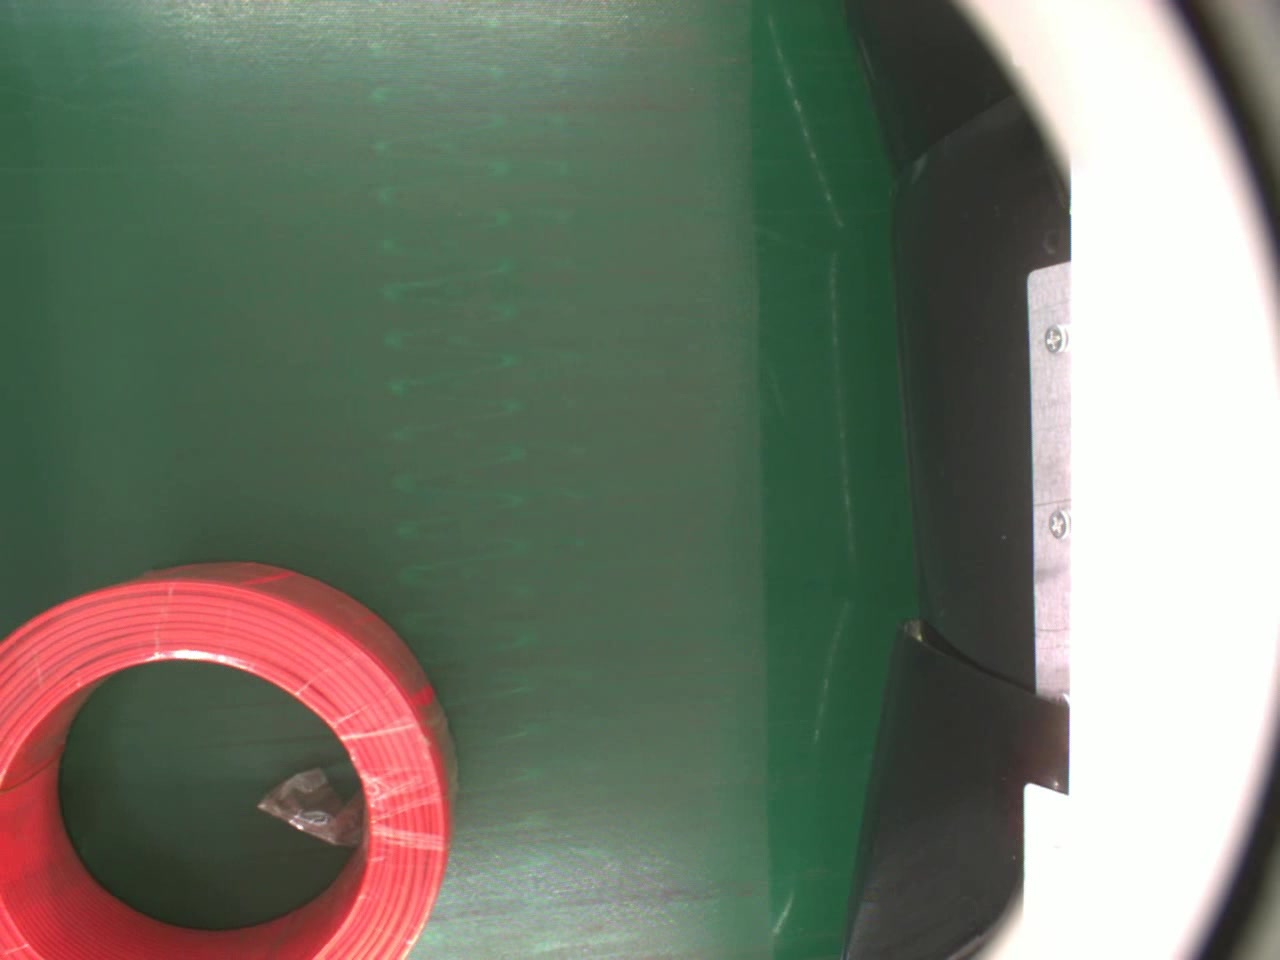red: (0, 556, 462, 960)
